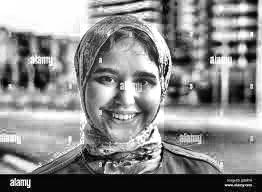happy: (80, 24, 164, 144)
